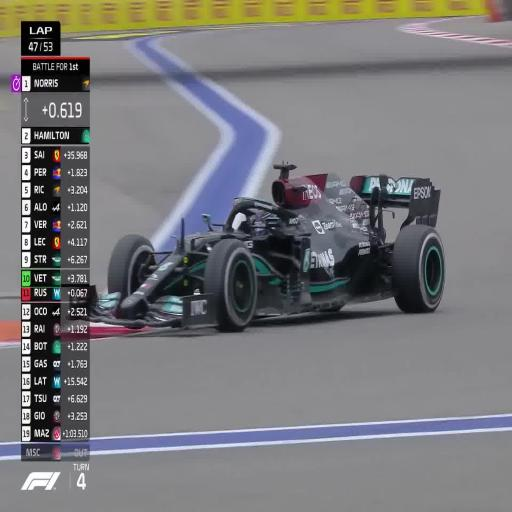f1_car: (84, 163, 444, 330)
